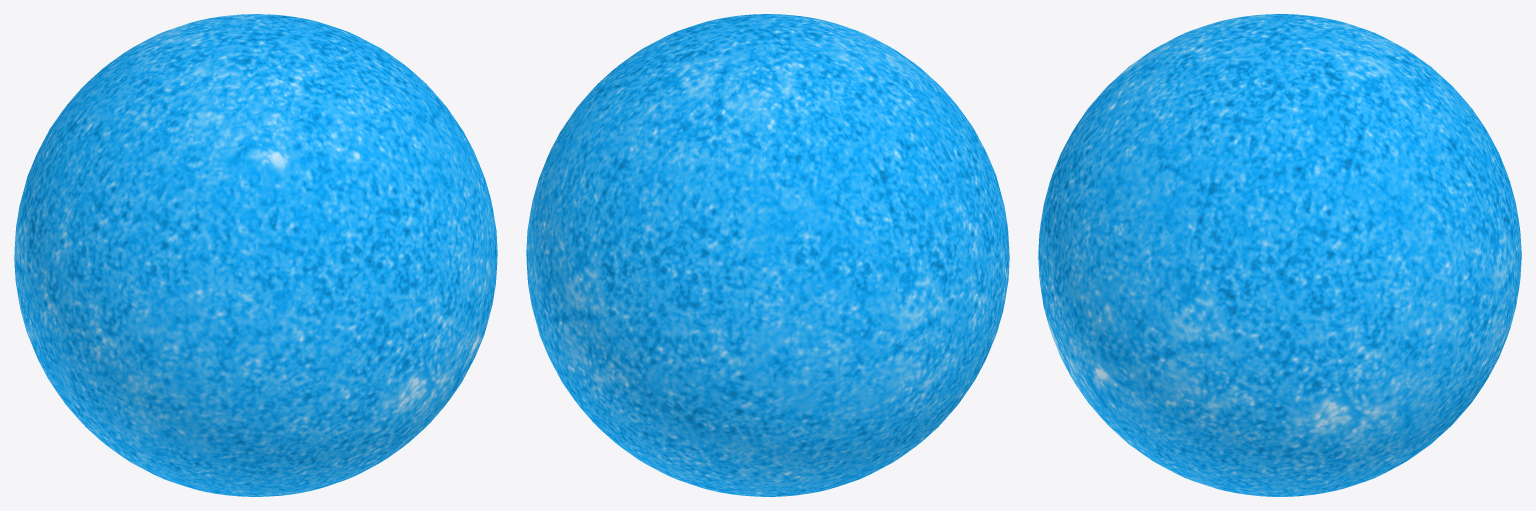
The picture shows the model from 3 angles, left to right: view 1: azimuth 30°, elevation 25°; view 2: azimuth 150°, elevation 25°; view 3: azimuth 270°, elevation 25°; orthographic projection.
Visible parts, largest first — view 1: UnstableStarref_2_0; view 2: UnstableStarref_2_0; view 3: UnstableStarref_2_0.
Part boxes in pixels (x1,y1,x2,y2): UnstableStarref_2_0: (14, 14, 497, 496); UnstableStarref_2_0: (526, 14, 1009, 496); UnstableStarref_2_0: (1038, 14, 1521, 496).
Bounding box in the file's own units: 300 × 300 × 300.
Materials: 2 (1 with a texture image).
